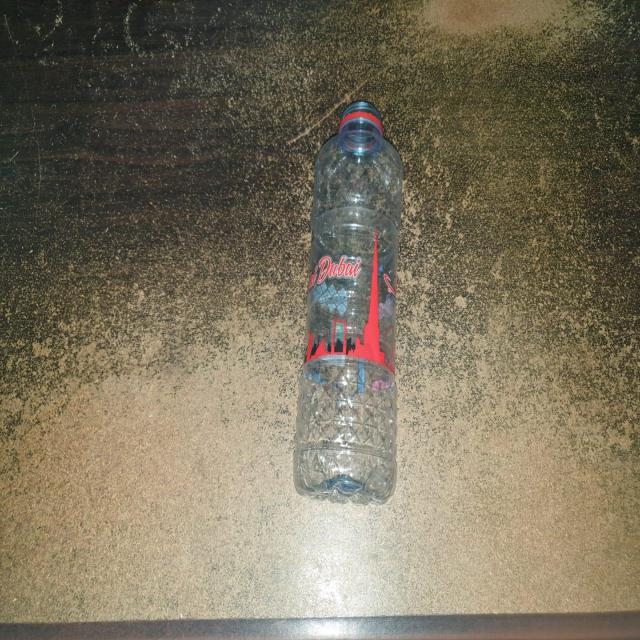anorganik: (274, 75, 405, 508)
